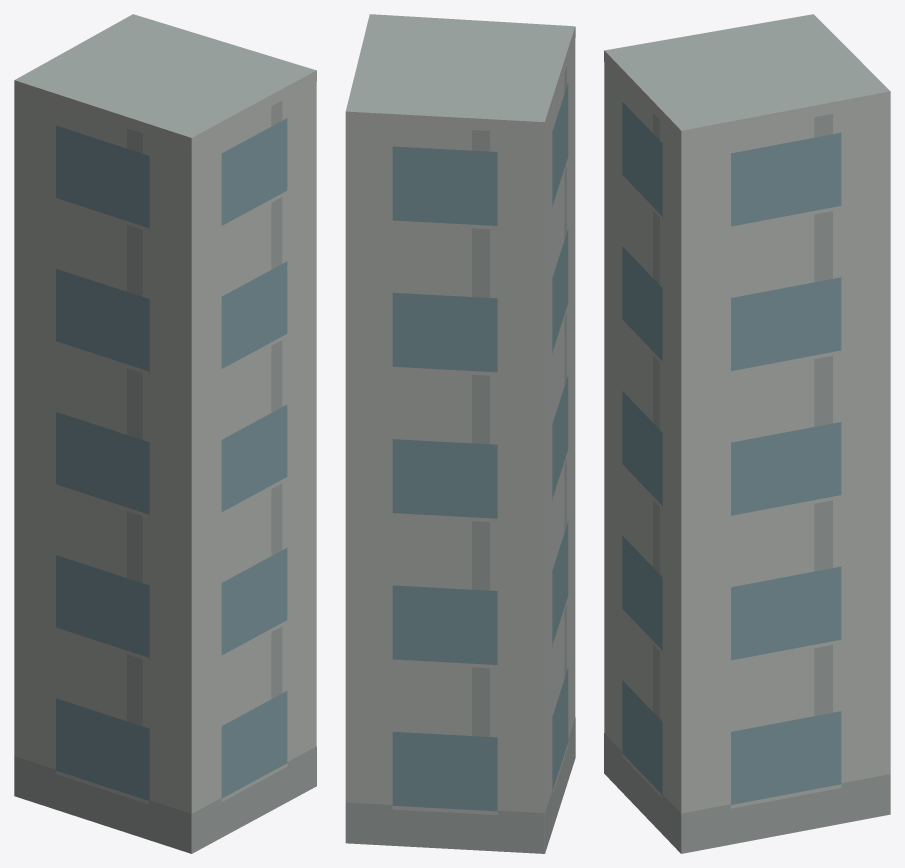
File: survey-upis-32697068.glb
3 renders of one model, left to right at view 1: azimuth 30°, elevation 25°; view 2: azimuth 150°, elevation 25°; view 3: azimuth 270°, elevation 25°, orthographic. The views are drawn at different scales.
Parts seen in each view (by area): view 1: survey-upis-32697068.tmp; view 2: survey-upis-32697068.tmp; view 3: survey-upis-32697068.tmp.
Boxes of the visible parts, x1,y1,x2,y2 form: survey-upis-32697068.tmp: [14, 14, 316, 853]; survey-upis-32697068.tmp: [345, 14, 575, 853]; survey-upis-32697068.tmp: [604, 14, 890, 853].
Size of the model in its own units: 5.29 by 15.25 by 5.48.
